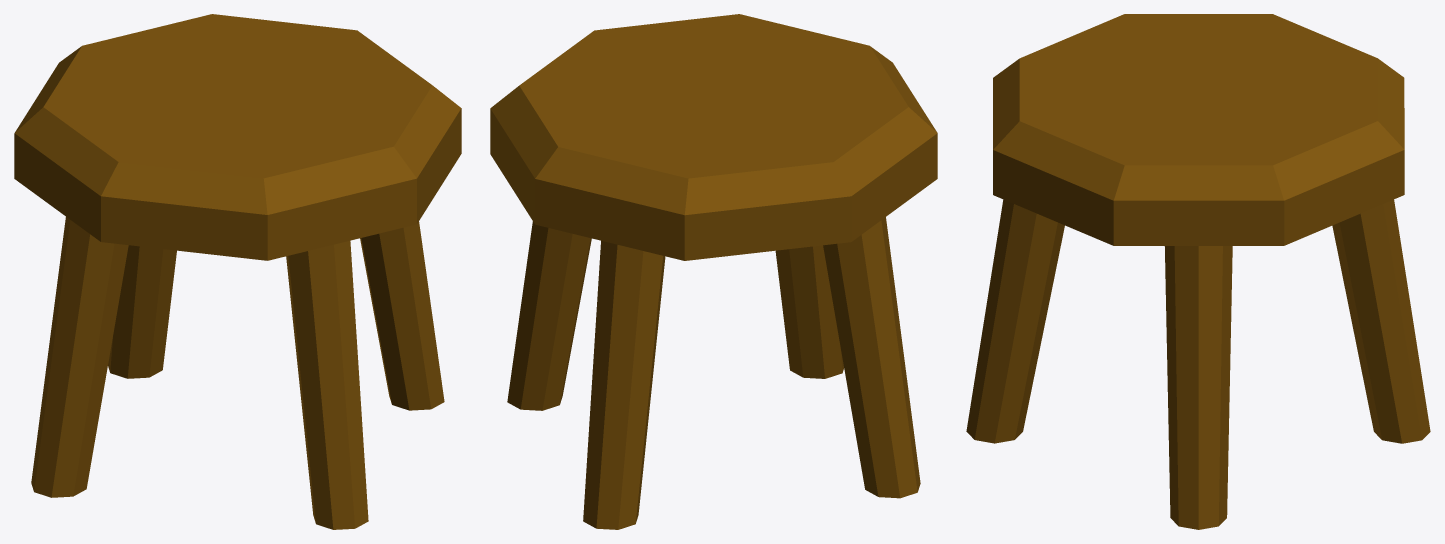
The model's file is Stool.fbx.
3 renders of one model, left to right at view 1: azimuth 30°, elevation 25°; view 2: azimuth 150°, elevation 25°; view 3: azimuth 270°, elevation 25°, orthographic.
Visible parts, largest first — view 1: Cylinder; view 2: Cylinder; view 3: Cylinder.
Boxes of the visible parts, x1,y1,x2,y2 form: Cylinder: (14,14,461,529); Cylinder: (490,14,937,529); Cylinder: (966,14,1430,529).
Bounding box in the file's own units: 185 × 151 × 185.
